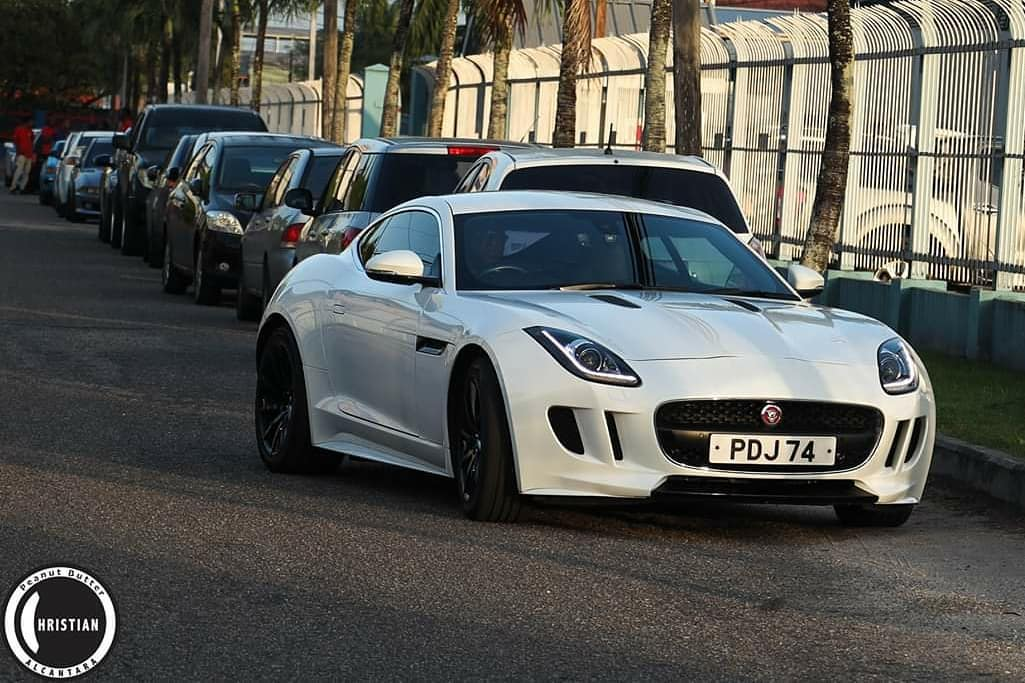License-Plate: (711, 432, 835, 462)
